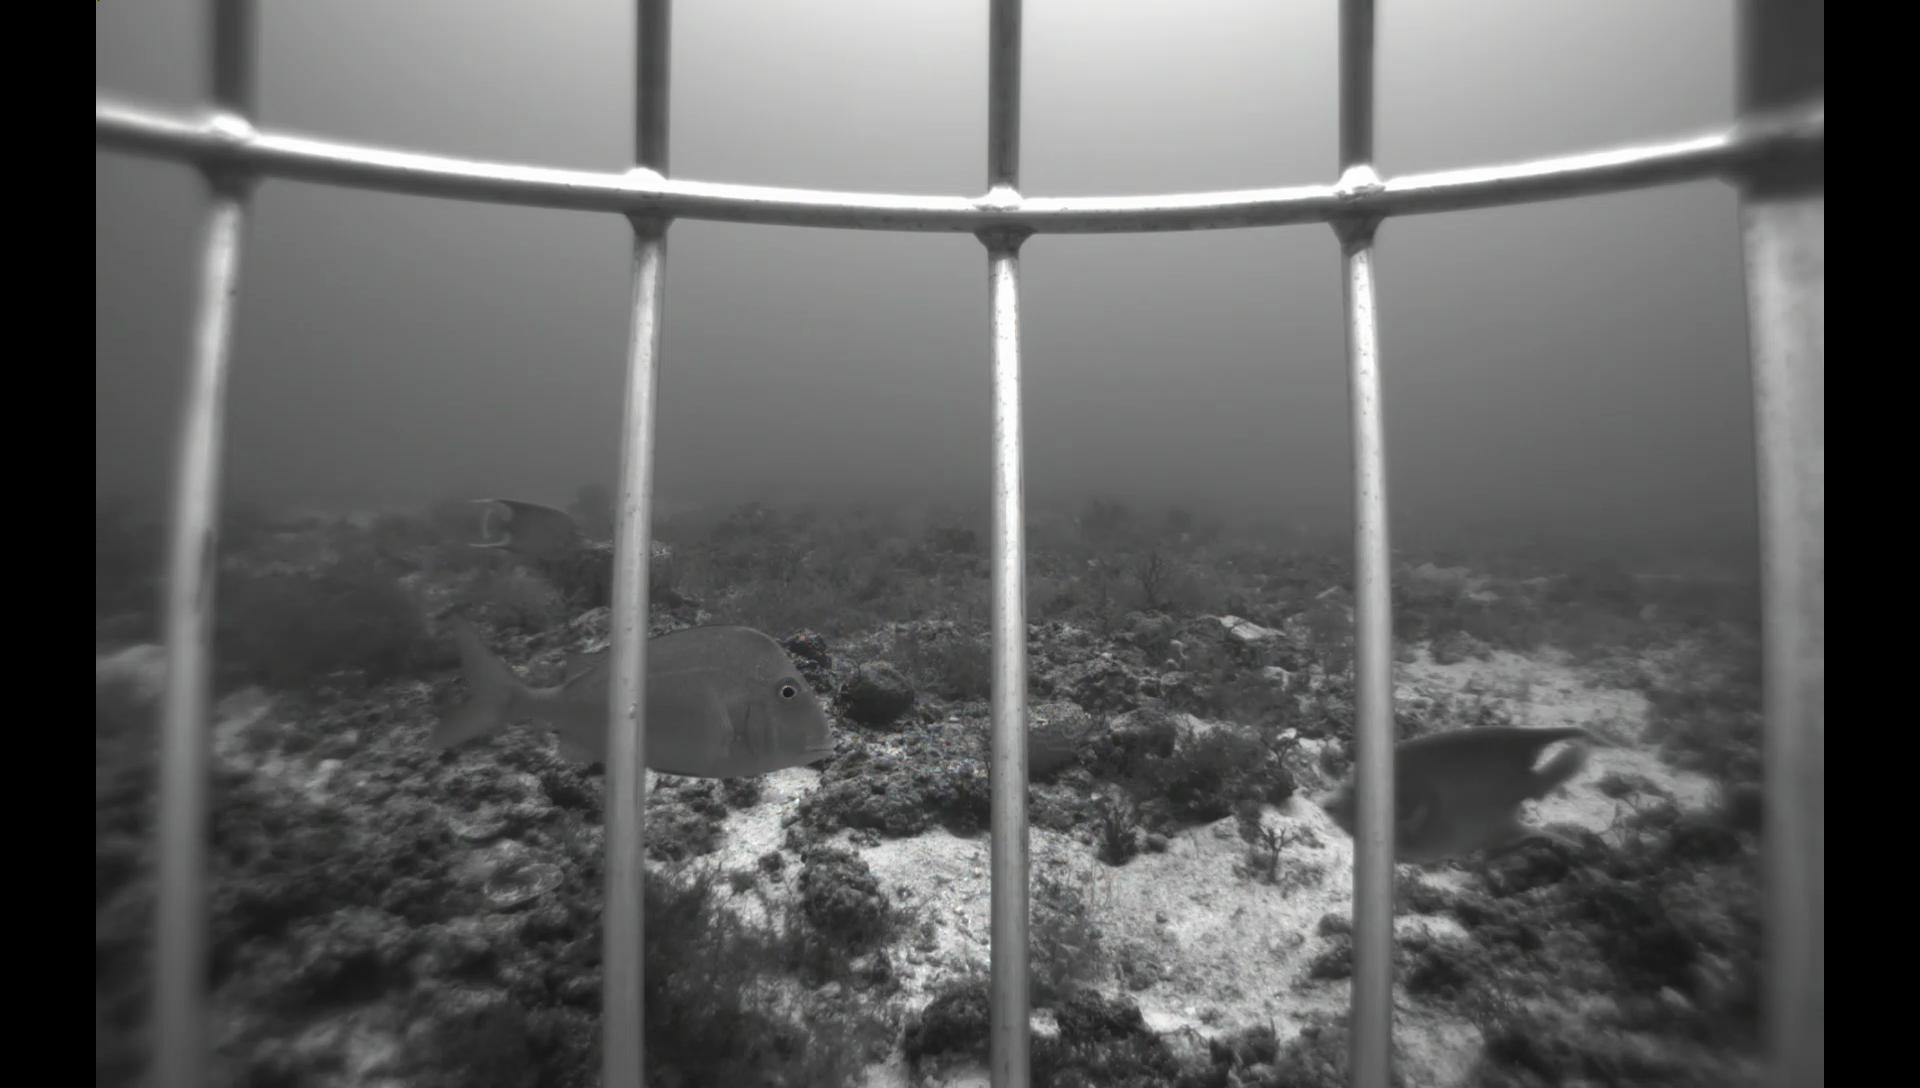CALAMUSNODOSUS-170210608: (419, 613, 843, 786)
HOLACANTHUSBERMUDENSIS-170290102: (1305, 713, 1647, 880), (462, 491, 593, 563)
MYCTEROPERCAPHENAX-170022105: (847, 510, 890, 557)
